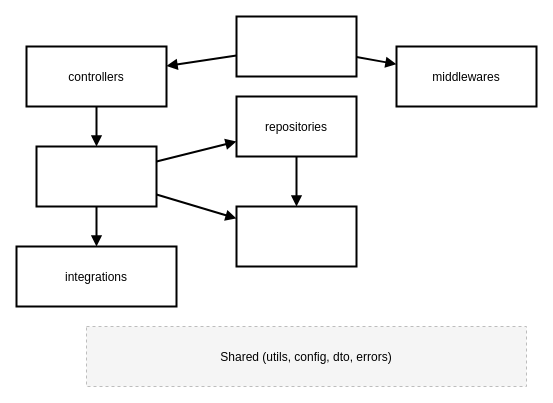
Image size: 553x403. Some labels were removed from this diagram. Here are the shapes that lost their labels. From the top down, the box of each, then its label:
(235, 15, 357, 77): routes
(35, 145, 157, 207): services
(235, 205, 357, 267): domain
